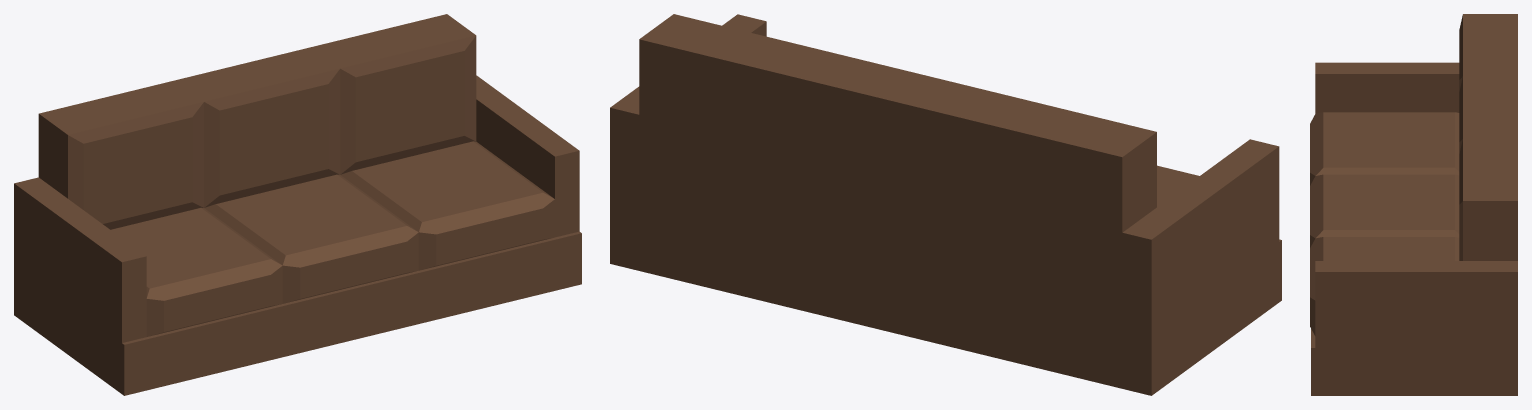
File: Sofa1.fbx
The picture shows the model from 3 angles, left to right: view 1: azimuth 30°, elevation 25°; view 2: azimuth 150°, elevation 25°; view 3: azimuth 270°, elevation 25°; orthographic projection. The views are drawn at different scales.
Visible parts, largest first — view 1: Cube; view 2: Cube; view 3: Cube.
Boxes of the visible parts, box(x1,y1,x2,y2) form: Cube: box(14, 14, 581, 395); Cube: box(610, 14, 1281, 395); Cube: box(1310, 14, 1517, 395).
Size of the model in its own units: 3.36 by 1.37 by 1.41.
